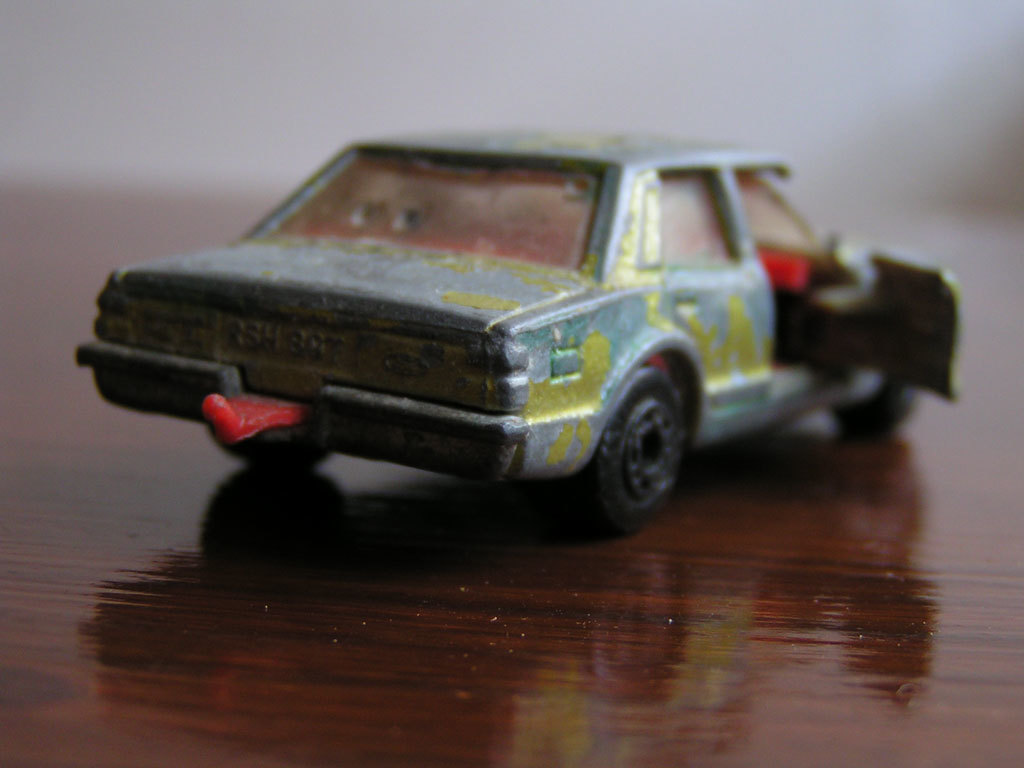cars: (72, 131, 956, 537)
